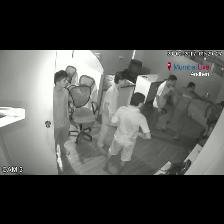person: (104, 93, 151, 174), (163, 82, 210, 140), (98, 72, 126, 154), (152, 75, 177, 133), (54, 71, 69, 155), (197, 102, 223, 141)
